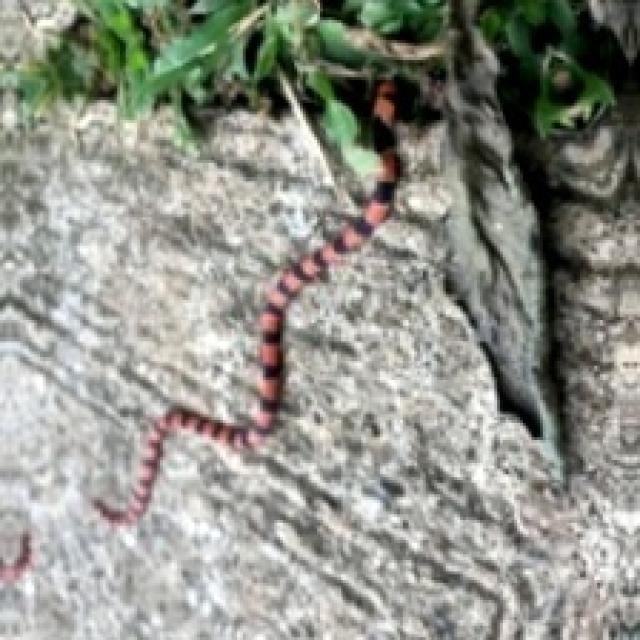barredcoral snake: (94, 80, 400, 523)
